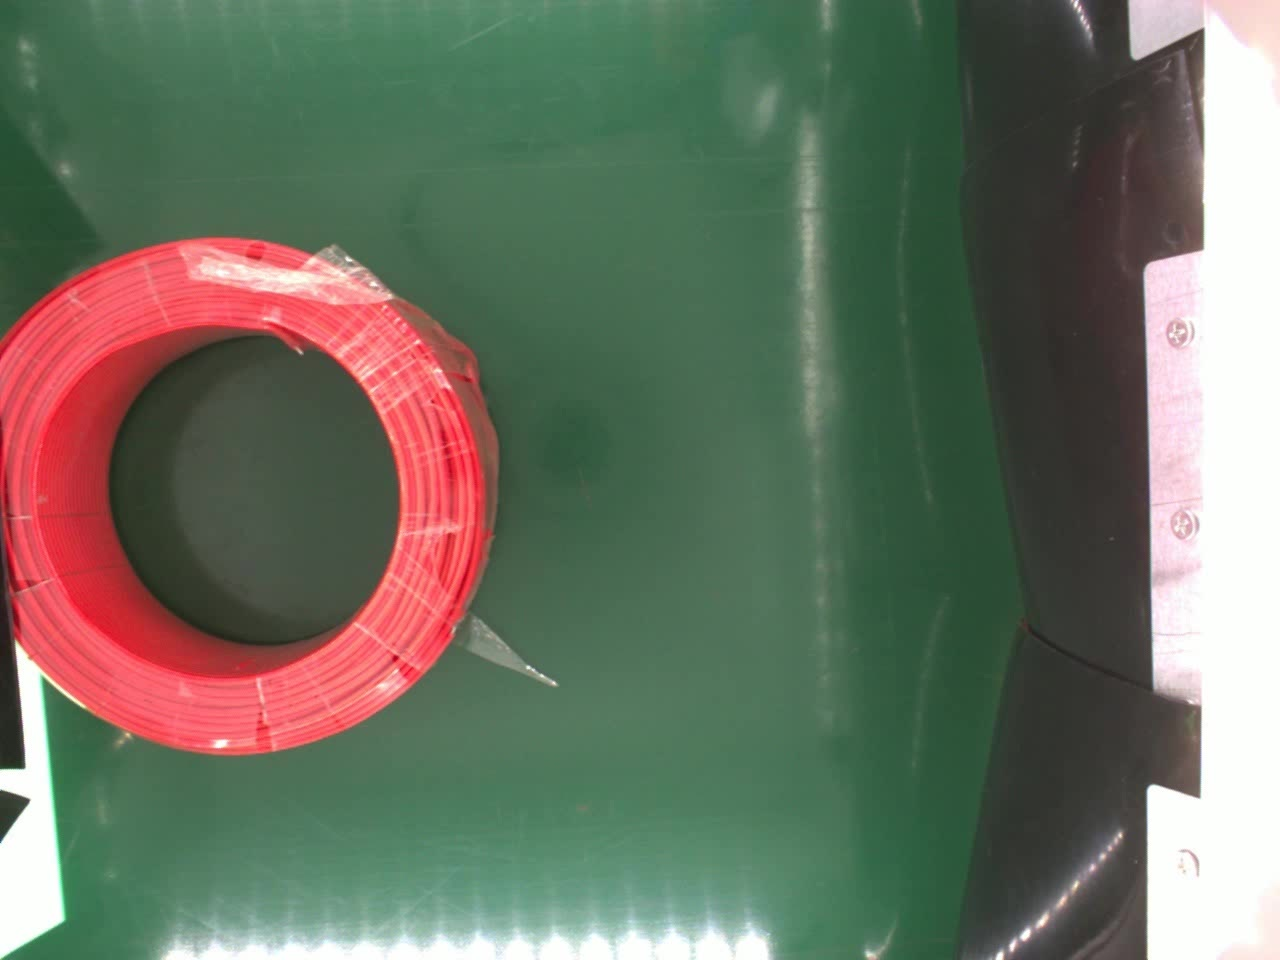red: (0, 237, 497, 755)
